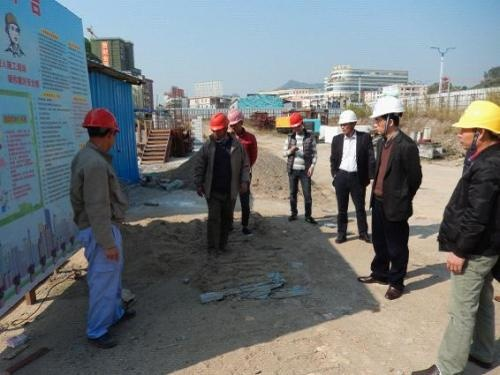red: (80, 104, 121, 153), (208, 112, 229, 140), (289, 111, 305, 135), (227, 110, 244, 132)
white: (371, 95, 403, 138), (337, 107, 358, 136)
yellow: (452, 99, 500, 157)
